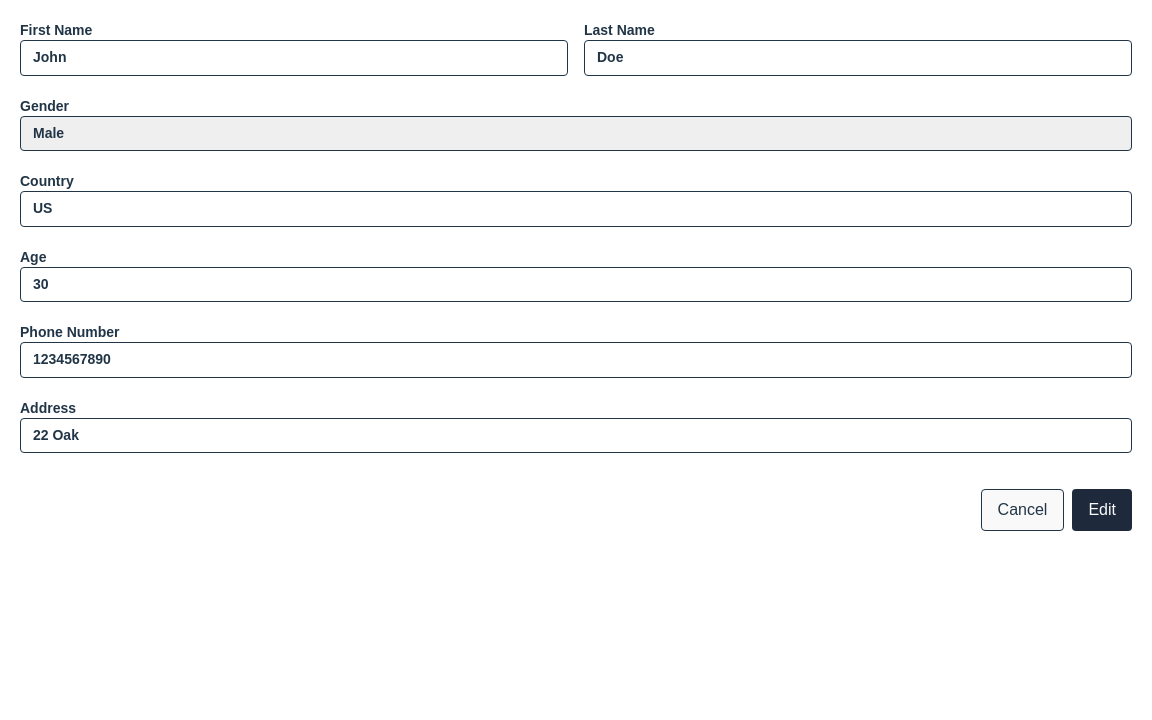
Admin form flows › shows patient update server error
Click the button "Edit". click: (1102,510)
box: [1072,489,1132,531]
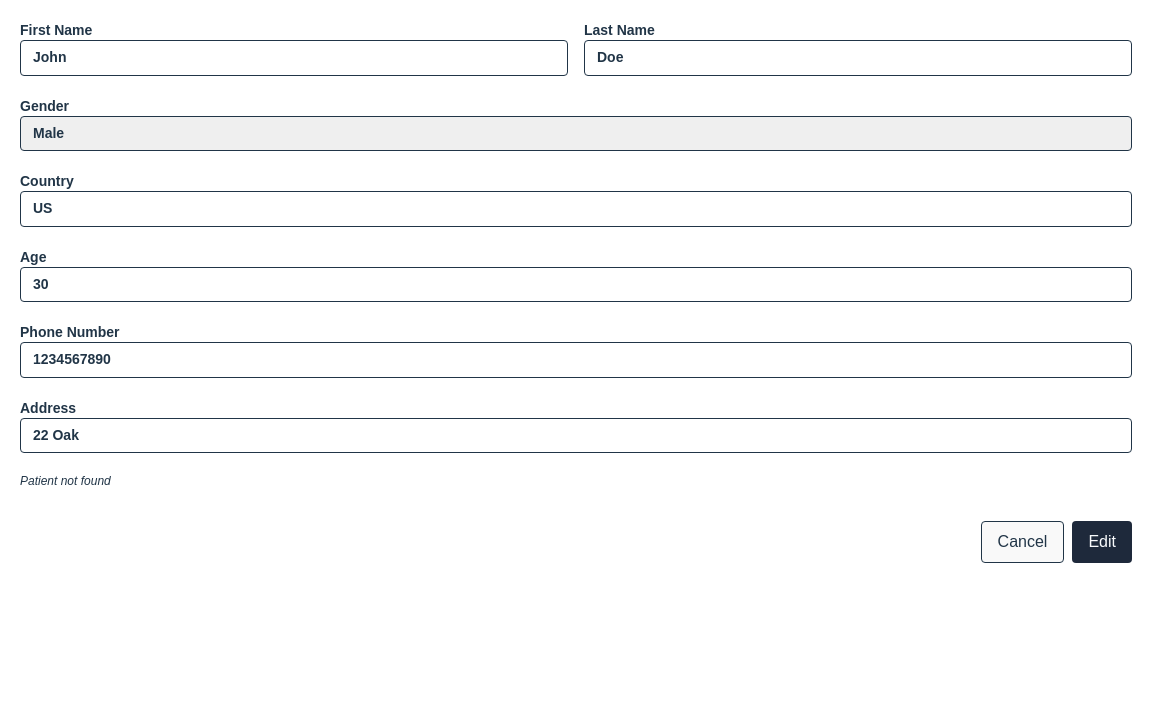
Result: the text "Patient not found" is shown at [20,474,111,488]
